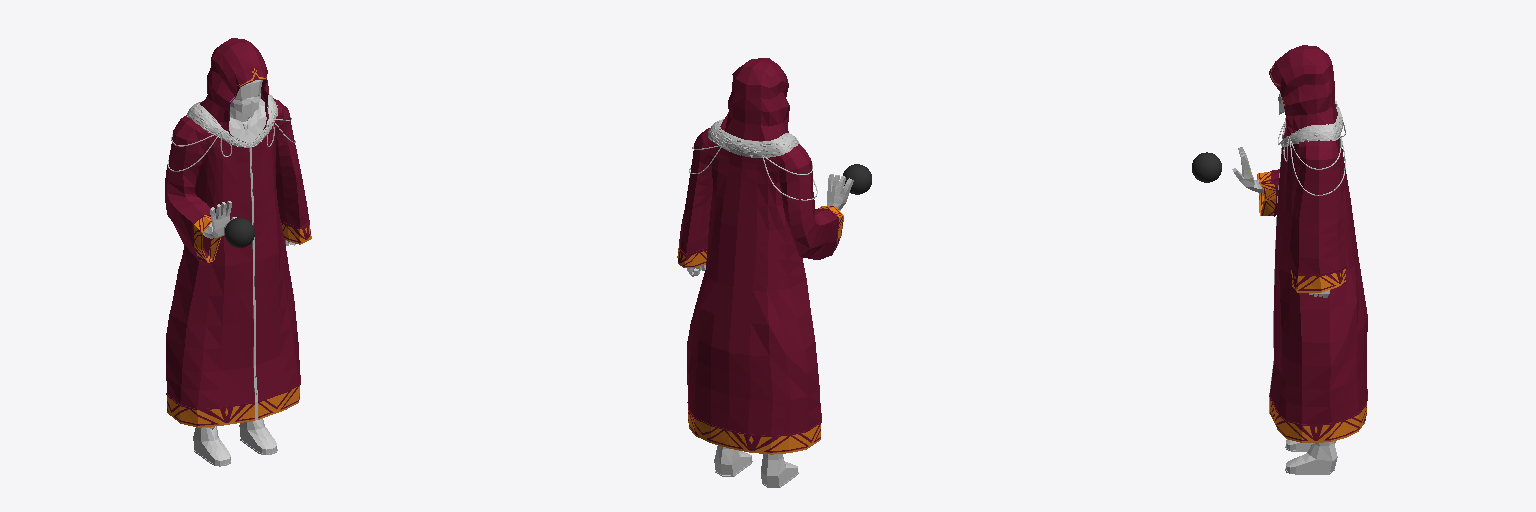
3 renders of one model, left to right at view 1: azimuth 30°, elevation 25°; view 2: azimuth 150°, elevation 25°; view 3: azimuth 270°, elevation 25°, orthographic.
Parts seen in each view (by area): view 1: hood_Plane, boots_Cylinder.004, fur_Plane.004, Icosphere, shirt_Cylinder.002, hood.edge2_Plane.003, Cylinder; view 2: hood_Plane, boots_Cylinder.004, fur_Plane.004, Icosphere; view 3: hood_Plane, boots_Cylinder.004, fur_Plane.004, Icosphere.
Boxes of the visible parts, x1=… form: hood_Plane: x1=165, y1=38, x2=311, y2=427; boots_Cylinder.004: x1=193, y1=418, x2=277, y2=466; fur_Plane.004: x1=187, y1=94, x2=277, y2=147; Icosphere: x1=225, y1=218, x2=254, y2=247; shirt_Cylinder.002: x1=229, y1=102, x2=266, y2=143; hood.edge2_Plane.003: x1=249, y1=145, x2=257, y2=420; Cylinder: x1=201, y1=80, x2=295, y2=428; hood_Plane: x1=677, y1=58, x2=853, y2=454; boots_Cylinder.004: x1=714, y1=446, x2=798, y2=487; fur_Plane.004: x1=708, y1=119, x2=799, y2=157; Icosphere: x1=843, y1=164, x2=871, y2=194; hood_Plane: x1=1232, y1=45, x2=1367, y2=442; boots_Cylinder.004: x1=1285, y1=439, x2=1337, y2=474; fur_Plane.004: x1=1281, y1=101, x2=1342, y2=146; Icosphere: x1=1192, y1=152, x2=1221, y2=182.
Bounding box in the file's own units: 0.6469 × 1.81 × 0.707.
4 materials, 1 textured.